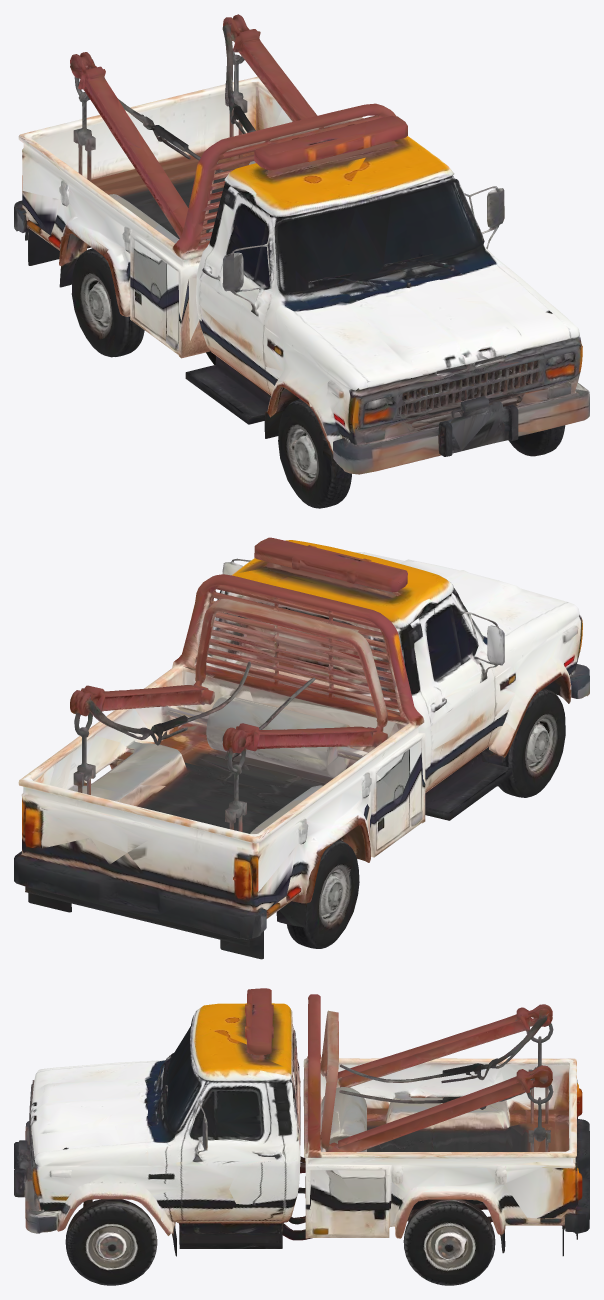
File: VEH_M_Wrecker.glb
3 renders of one model, top to bottom at view 1: azimuth 30°, elevation 25°; view 2: azimuth 150°, elevation 25°; view 3: azimuth 270°, elevation 25°, orthographic. The views are drawn at different scales.
Visible parts, largest first — view 1: VEH_M_Wrecker; view 2: VEH_M_Wrecker; view 3: VEH_M_Wrecker.
Part boxes in pixels (bbox=[...]): VEH_M_Wrecker: bbox=[14, 14, 589, 508]; VEH_M_Wrecker: bbox=[14, 537, 589, 959]; VEH_M_Wrecker: bbox=[14, 988, 589, 1285].
Bounding box in the file's own units: 2.58 × 2.42 × 5.6.
Materials: 1 (1 with a texture image).
